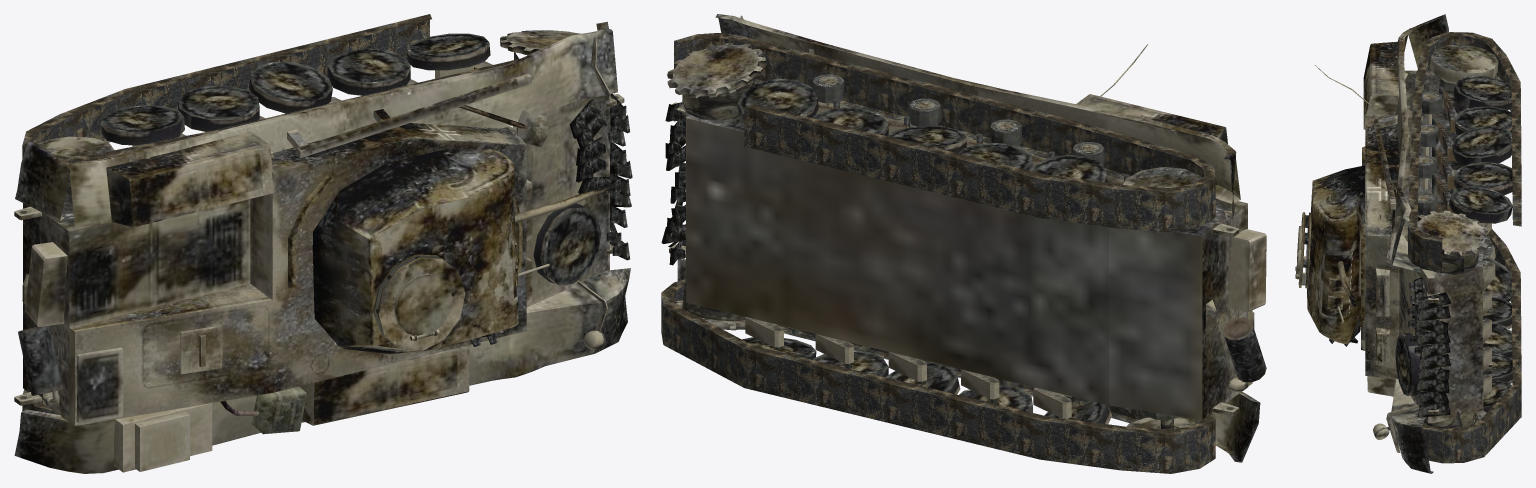
The model's file is vehicle_panzer_ii_destroyed_static.glb.
3 views of the same model, side by side, from view 1: azimuth 30°, elevation 25°; view 2: azimuth 150°, elevation 25°; view 3: azimuth 270°, elevation 25° (orthographic). The views are drawn at different scales.
Size of the model in its own units: 240 by 127 by 101.
2 materials, 2 textured.
